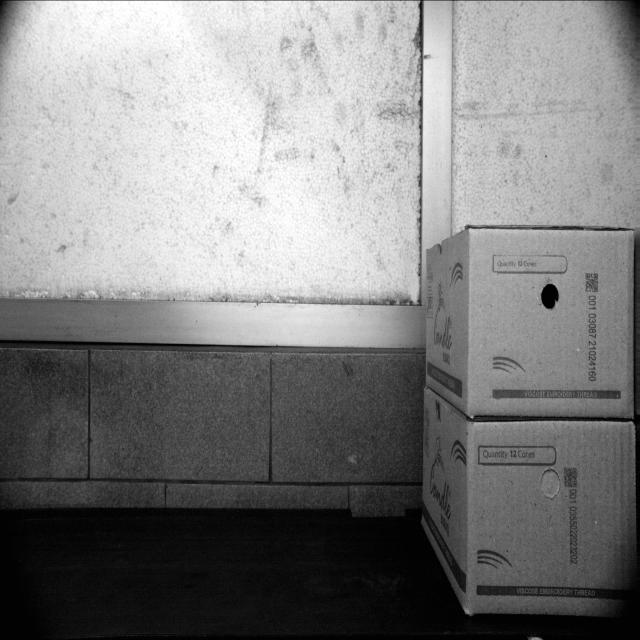cardboxes: (465, 417, 640, 621), (466, 220, 634, 418)
